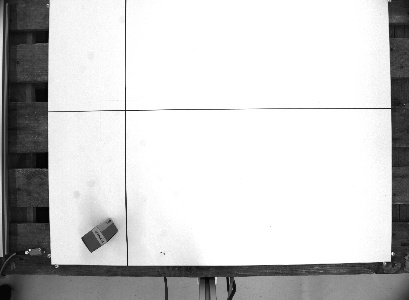b3: (78, 216, 119, 254)
